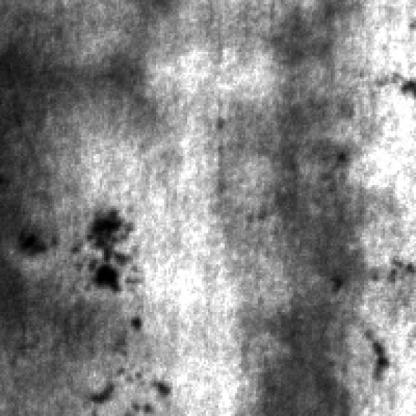inclusion: (85, 212, 135, 298), (362, 329, 406, 393), (15, 216, 60, 270)
patches: (248, 97, 375, 416), (2, 33, 162, 208), (2, 288, 148, 374), (270, 2, 370, 104)
